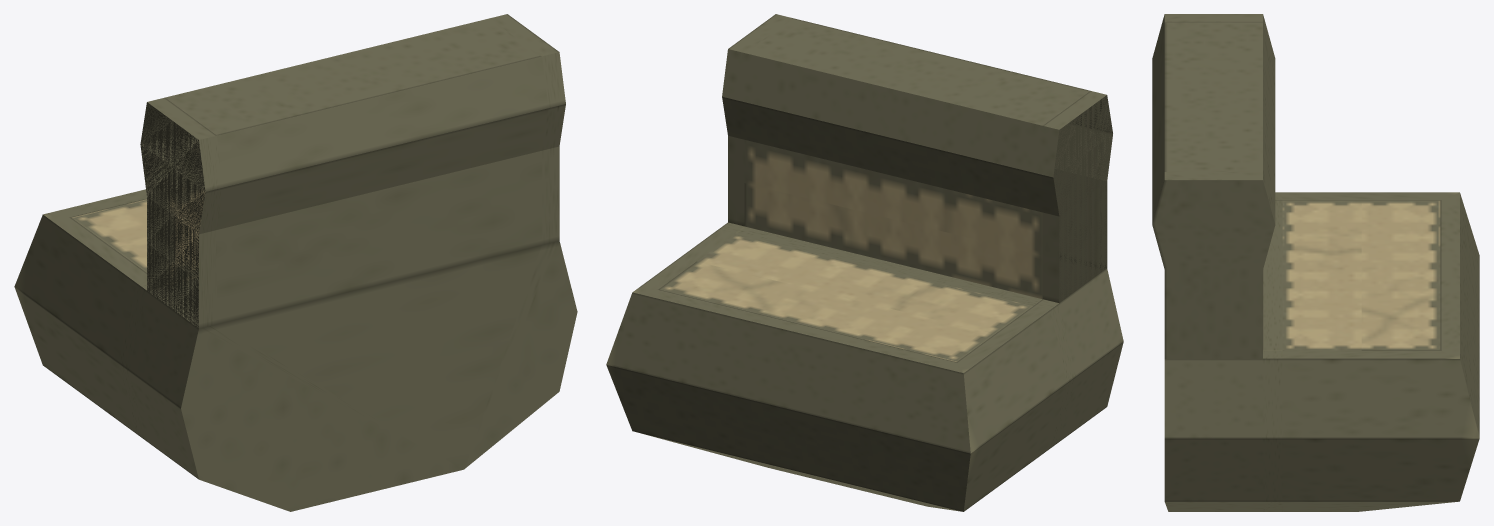
The model's file is Platform_13.fbx.
The picture shows the model from 3 angles, left to right: view 1: azimuth 30°, elevation 25°; view 2: azimuth 150°, elevation 25°; view 3: azimuth 270°, elevation 25°; orthographic projection. The views are drawn at different scales.
Visible parts, largest first — view 1: Platform_13; view 2: Platform_13; view 3: Platform_13.
Part boxes in pixels (<box>): Platform_13: <box>14,14,577,511</box>; Platform_13: <box>606,14,1123,511</box>; Platform_13: <box>1152,14,1479,511</box>.
Size of the model in its own units: 220 by 210 by 166.
